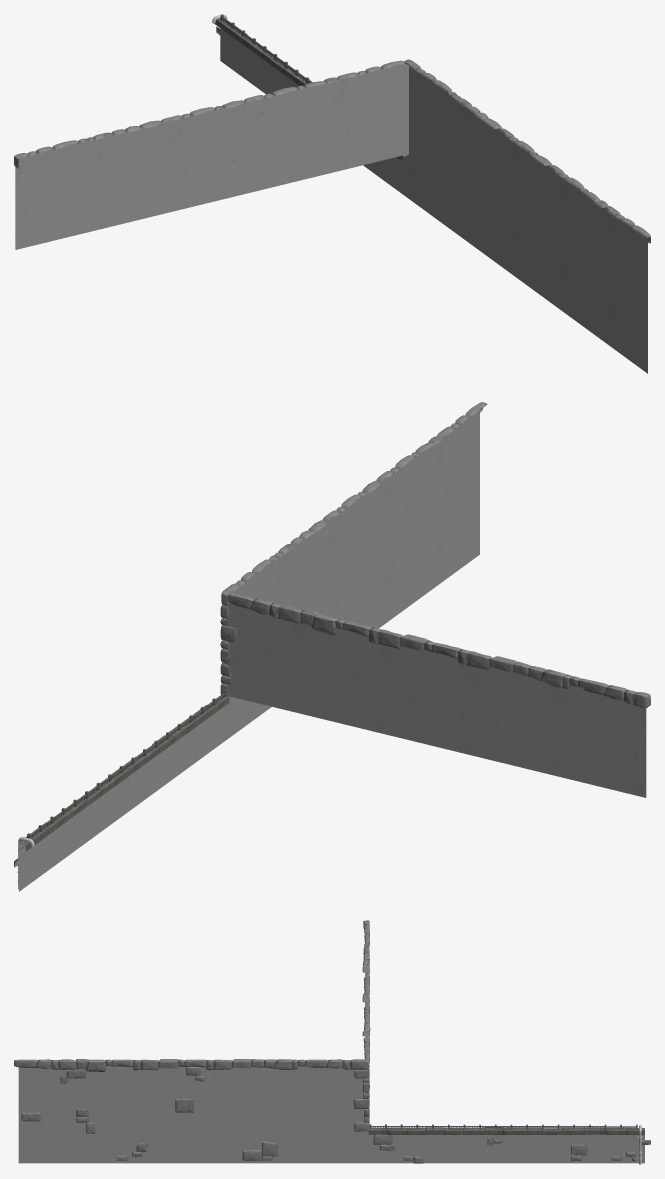
File: SM_ENV_KNVLLG_Wall_06.mo.fbx
The picture shows the model from 3 angles, top to bottom: view 1: azimuth 30°, elevation 25°; view 2: azimuth 150°, elevation 25°; view 3: azimuth 270°, elevation 25°; orthographic projection. The views are drawn at different scales.
Visible parts, largest first — view 1: SM_ENV_KNVLLG_Wall_06.mo; view 2: SM_ENV_KNVLLG_Wall_06.mo; view 3: SM_ENV_KNVLLG_Wall_06.mo.
Part boxes in pixels (x1,y1,x2,y2): SM_ENV_KNVLLG_Wall_06.mo: (14, 14, 650, 373); SM_ENV_KNVLLG_Wall_06.mo: (14, 402, 650, 891); SM_ENV_KNVLLG_Wall_06.mo: (14, 920, 650, 1164).
Size of the model in its own units: 39.05 by 13.12 by 73.71.
